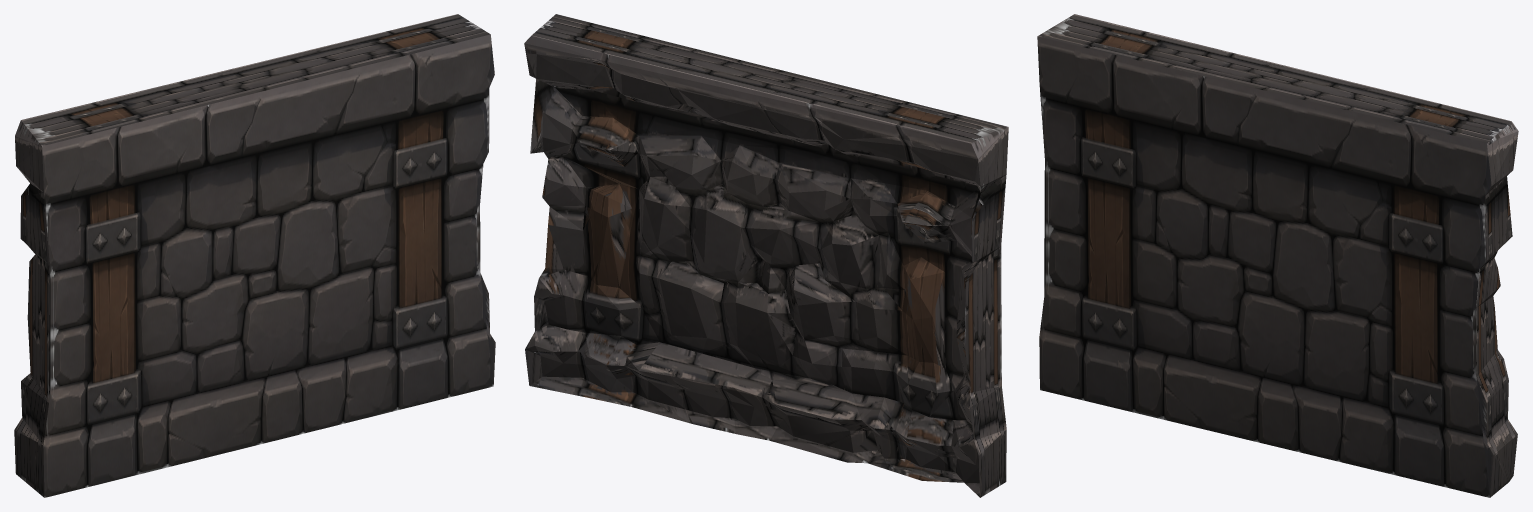
File: SM_Dungeon_Wall_A_LOD1.fbx
3 renders of one model, left to right at view 1: azimuth 30°, elevation 25°; view 2: azimuth 150°, elevation 25°; view 3: azimuth 330°, elevation 25°, orthographic.
Visible parts, largest first — view 1: SM_Dungeon_Wall_A_LOD1; view 2: SM_Dungeon_Wall_A_LOD1; view 3: SM_Dungeon_Wall_A_LOD1.
Boxes of the visible parts, box(x1,y1,x2,y2) form: SM_Dungeon_Wall_A_LOD1: box(14, 14, 495, 497); SM_Dungeon_Wall_A_LOD1: box(524, 14, 1008, 497); SM_Dungeon_Wall_A_LOD1: box(1037, 14, 1518, 497).
Size of the model in its own units: 4 by 2.99 by 0.4586.
